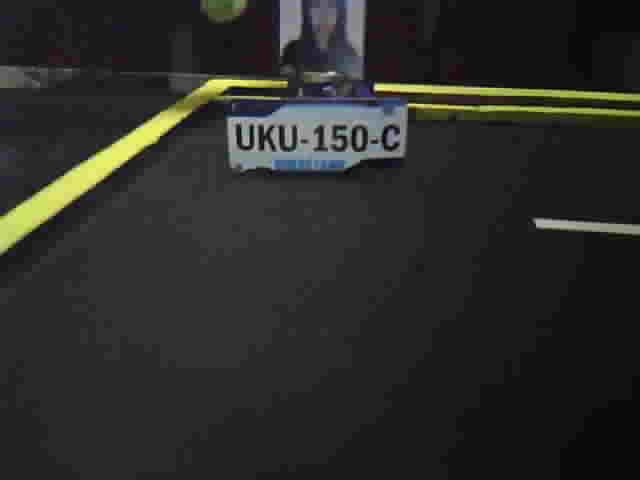PLACA: (223, 95, 410, 180)
ROSTRO: (279, 1, 361, 80)
